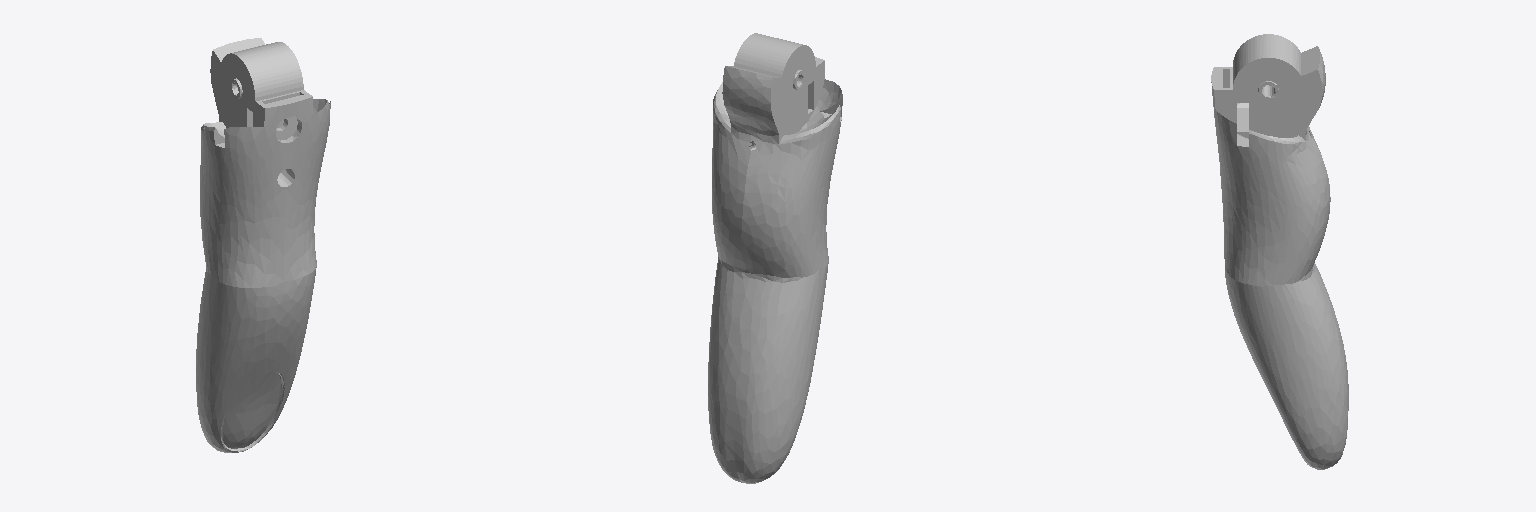
The model's file is armar-7_ring_intermediate_distal_phalanx.obj.
3 views of the same model, side by side, from view 1: azimuth 30°, elevation 25°; view 2: azimuth 150°, elevation 25°; view 3: azimuth 270°, elevation 25° (orthographic).
Size of the model in its own units: 0.0193 by 0.0664 by 0.0197.